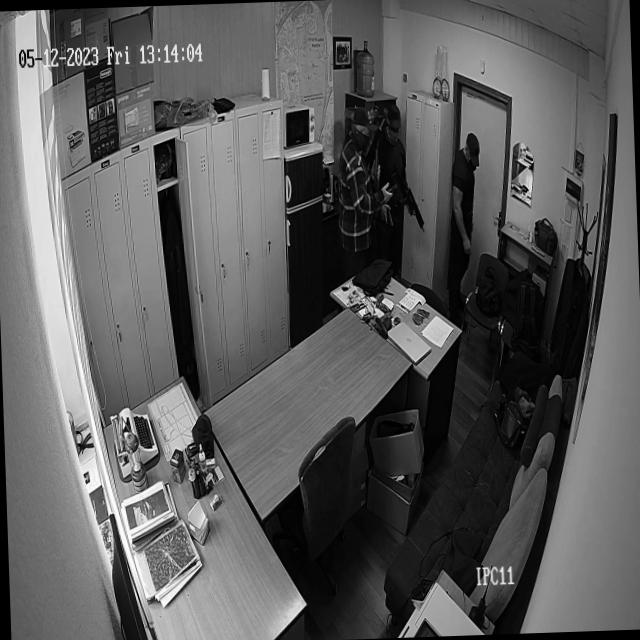gun: (402, 180, 426, 234), (384, 205, 395, 230)
person: (336, 107, 396, 253), (448, 132, 480, 312)
person with a gun: (376, 108, 410, 267)
